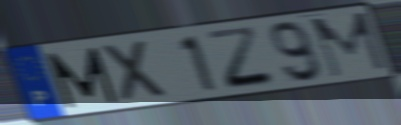1: (176, 33, 220, 94)
9: (265, 20, 326, 83)
M: (308, 9, 391, 81), (43, 45, 122, 111)
X: (99, 37, 173, 106)
Z: (203, 24, 280, 91)
